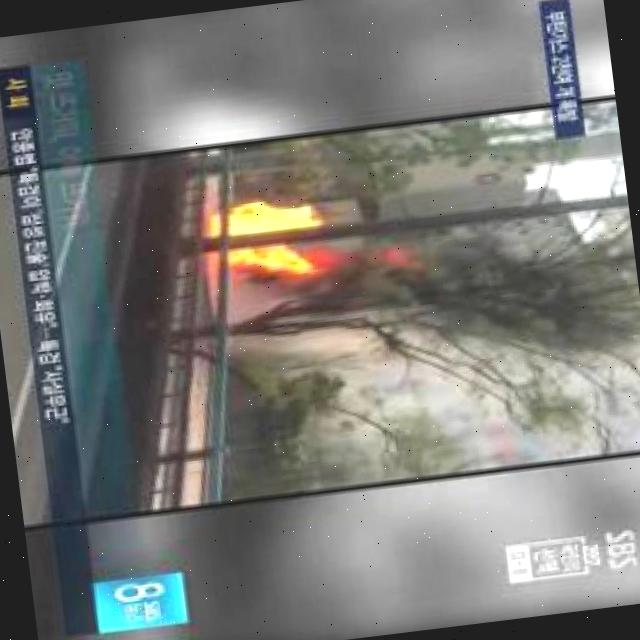fire: (201, 183, 335, 301)
